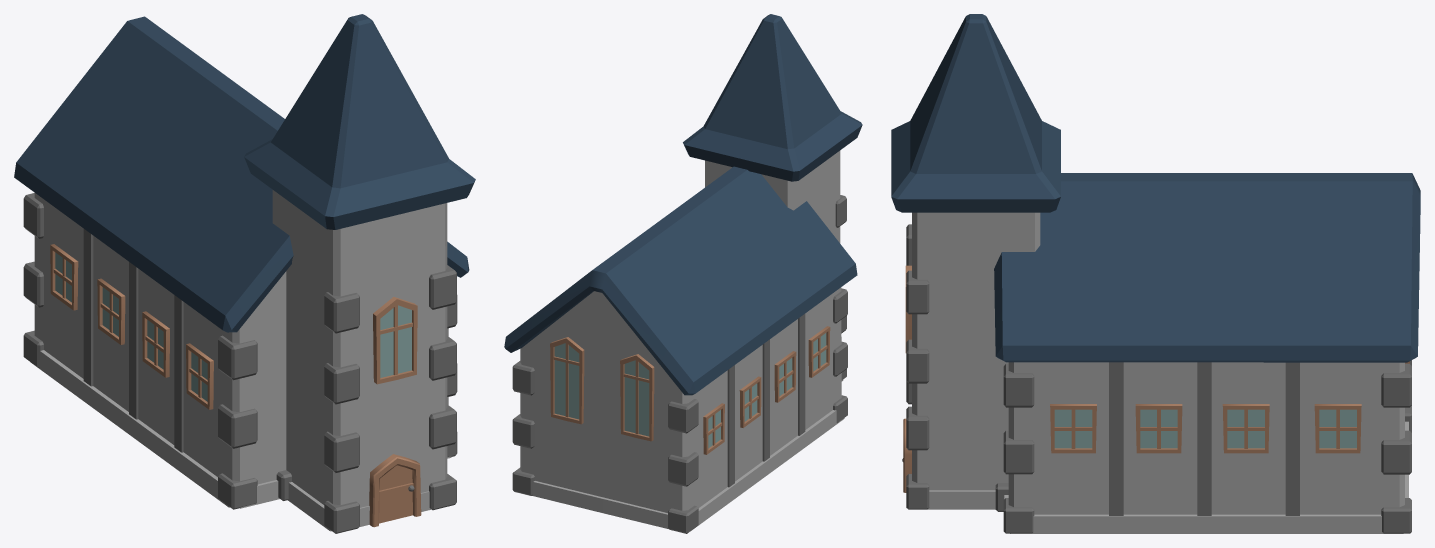
Rendered from Church.fbx.
The picture shows the model from 3 angles, left to right: view 1: azimuth 30°, elevation 25°; view 2: azimuth 150°, elevation 25°; view 3: azimuth 270°, elevation 25°; orthographic projection. The views are drawn at different scales.
Parts seen in each view (by area): view 1: Church; view 2: Church; view 3: Church.
Part boxes in pixels (x1,y1,x2,y2): Church: [14, 14, 475, 533]; Church: [504, 14, 862, 533]; Church: [891, 14, 1420, 533].
Size of the model in its own units: 1775 by 3276 by 3386.
